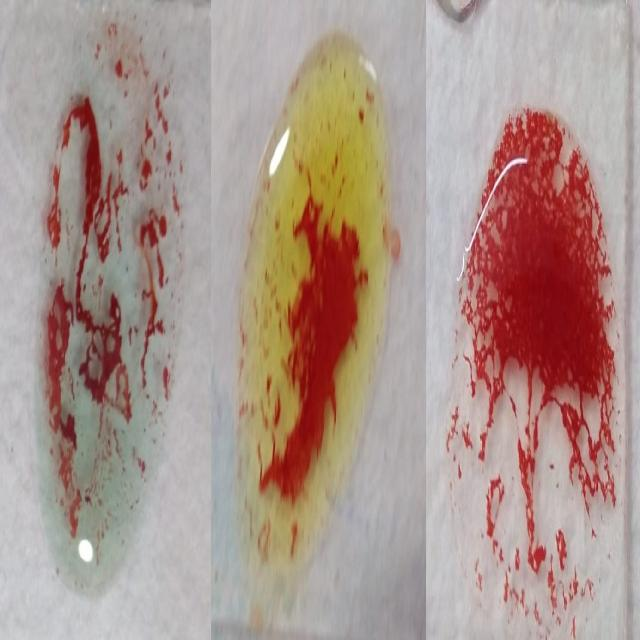A: (36, 8, 182, 577)
B: (239, 36, 388, 569)
D: (451, 101, 619, 631)
